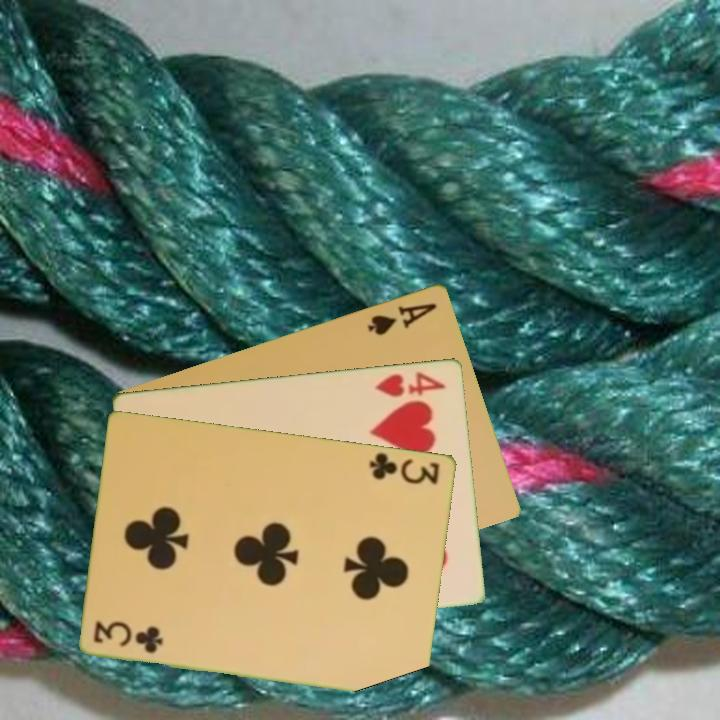3c: (366, 448, 443, 487), (90, 618, 167, 656)
4h: (371, 367, 449, 399)
As: (364, 299, 440, 338)
